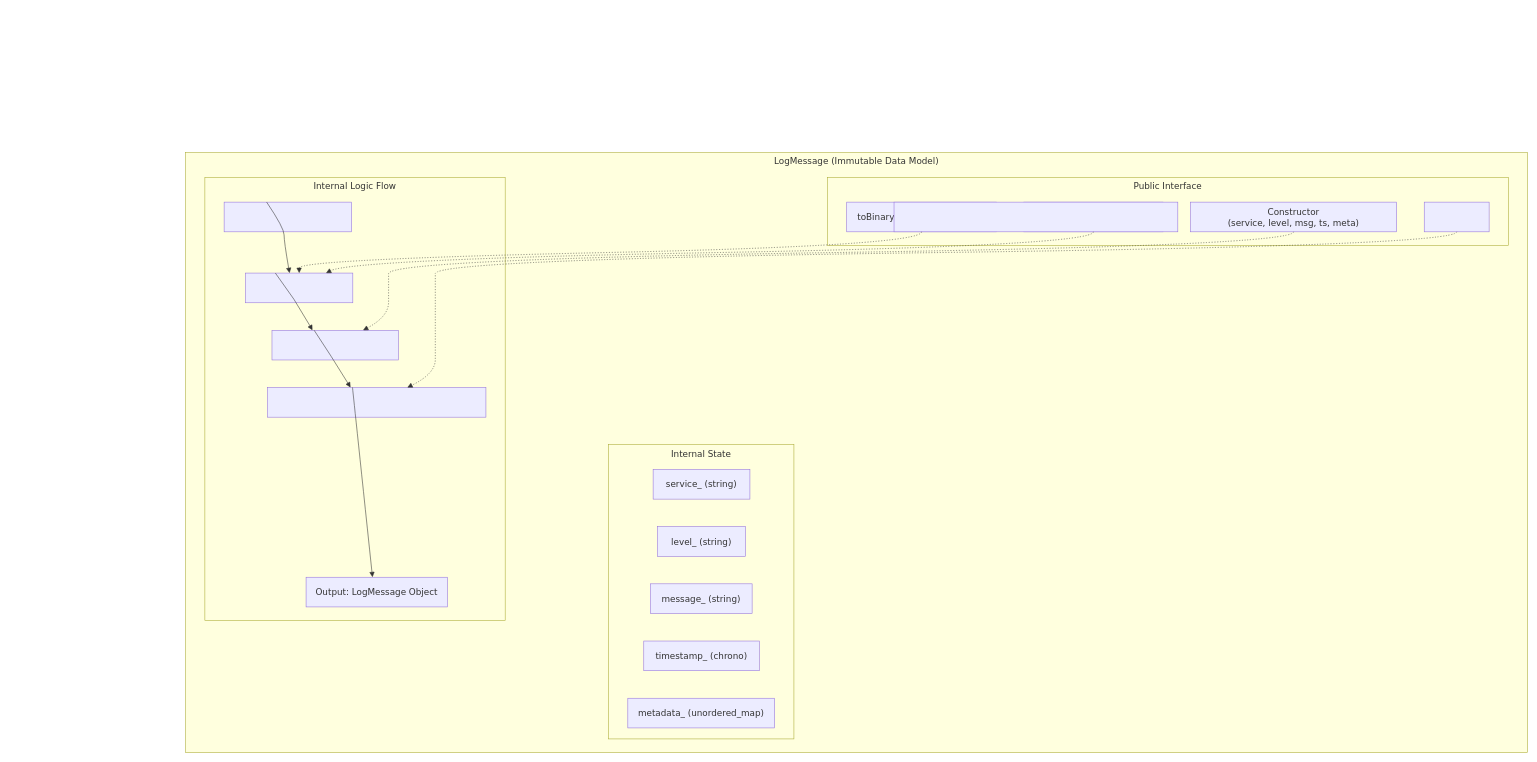
Some shapes in this 1537 by 762 pixel diagram are drawn without their labels. The shapes that lost their labels are listed below. From the top down, each one's centre as x and y in pixels, then its label:
At (x=288, y=217): "Input: Raw JSON/Binary".
At (x=1035, y=217): "Getters: service(), level(), message(), timestamp(), metadata()".
At (x=1456, y=217): "isValid()".
At (x=299, y=288): "Deserialize / Parse".
At (x=334, y=345): "Populate Internal Fields".
At (x=376, y=402): "Run Validation Checks (required fields, types)".
